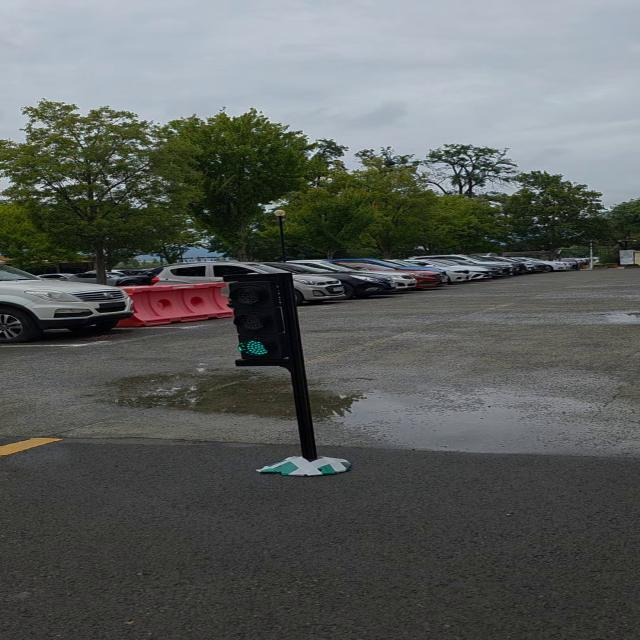green: (226, 272, 304, 368)
